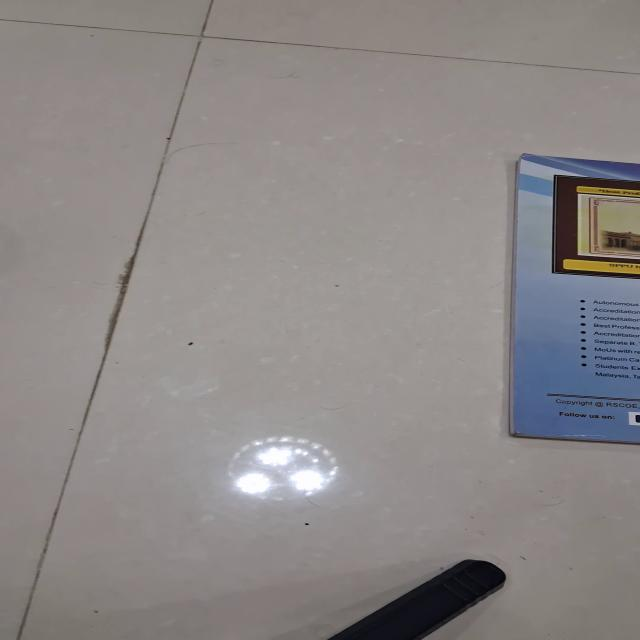paper: (507, 153, 639, 444)
